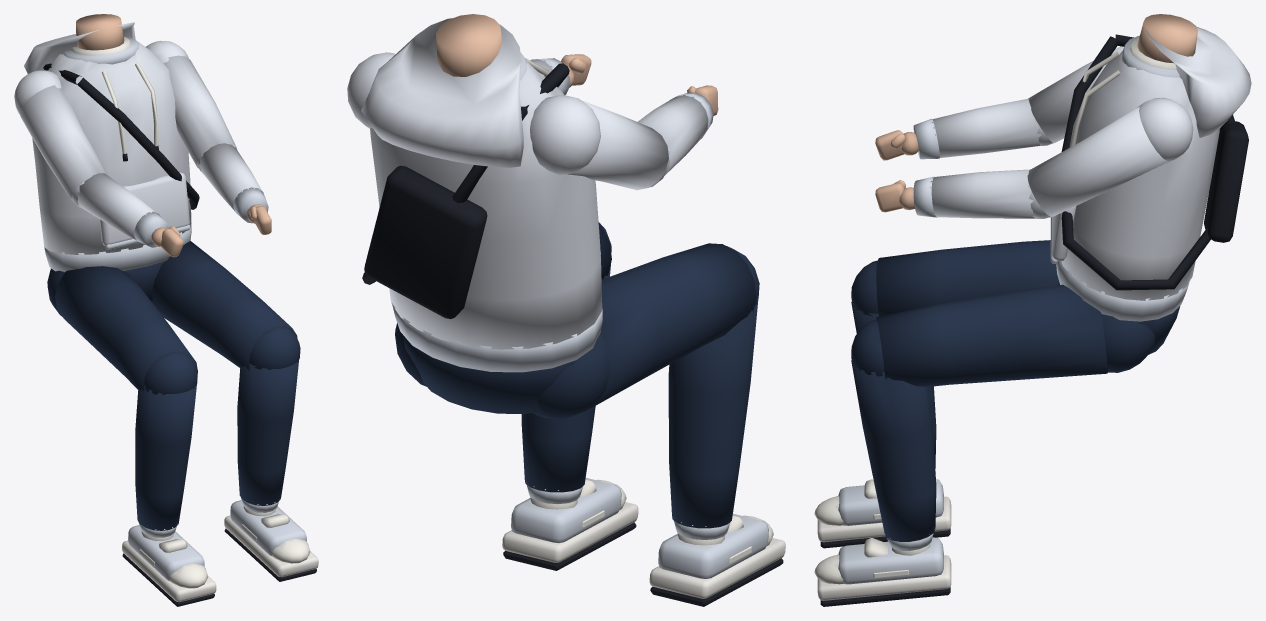
The model's file is coder_seated_body.glb.
3 renders of one model, left to right at view 1: azimuth 30°, elevation 25°; view 2: azimuth 150°, elevation 25°; view 3: azimuth 270°, elevation 25°, orthographic. The views are drawn at different scales.
Parts seen in each view (by area): view 1: CoderPart; view 2: CoderPart; view 3: CoderPart.
Part boxes in pixels (x1,y1,x2,y2): CoderPart: (14,14,318,606); CoderPart: (347,14,785,606); CoderPart: (814,14,1251,606).
Size of the model in its own units: 0.4355 by 1.13 by 0.8228.
